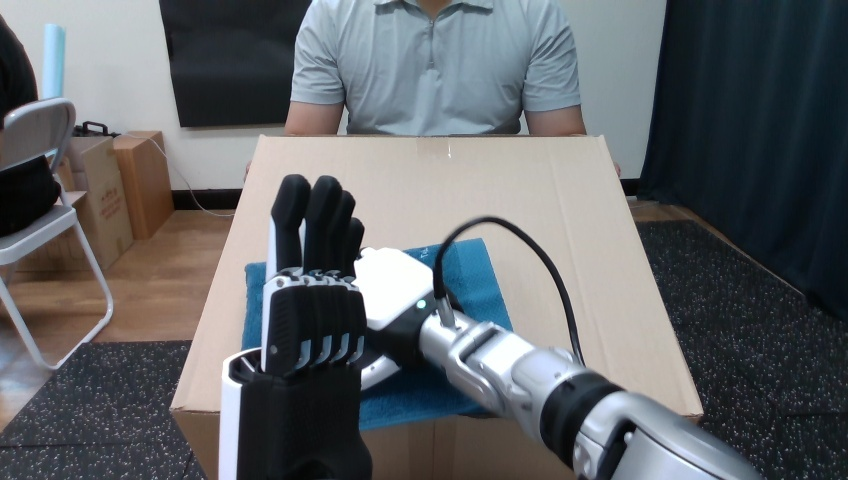left robot hand: (219, 174, 758, 479), (442, 223, 573, 353)
